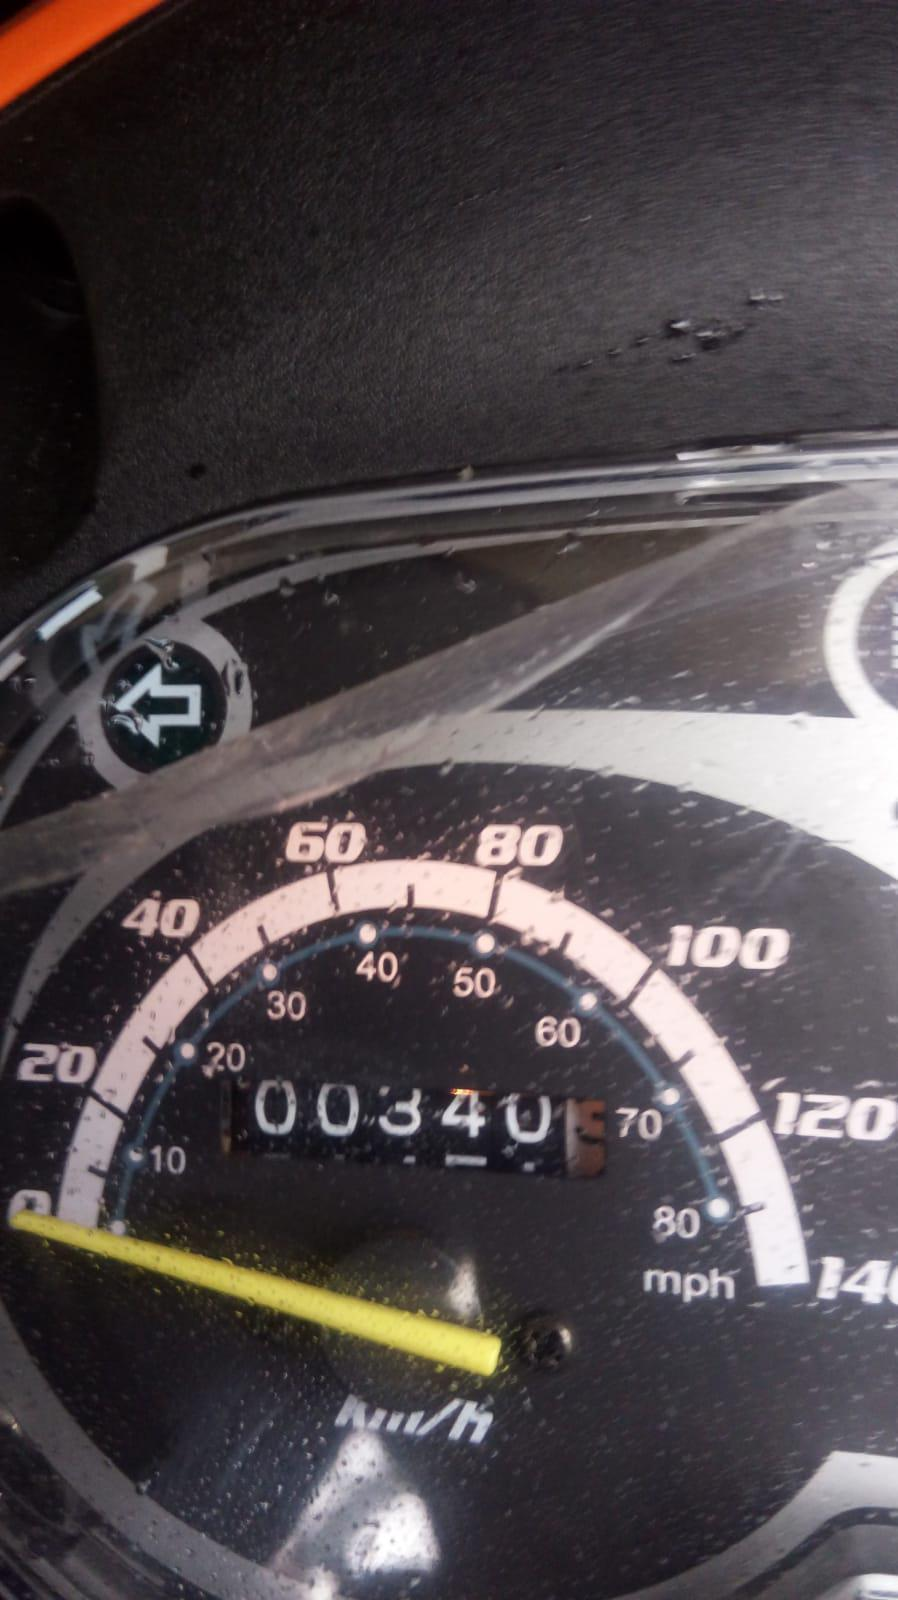0: (505, 1087, 553, 1145), (253, 1077, 298, 1137), (314, 1080, 361, 1138)
3: (378, 1081, 423, 1137), (573, 1090, 611, 1145)
4: (439, 1081, 487, 1138)
odometer: (213, 1073, 613, 1188)
